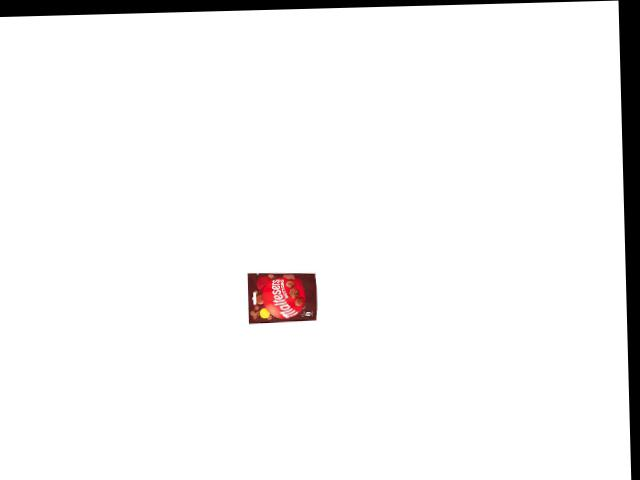chocolate: (246, 270, 319, 324)
